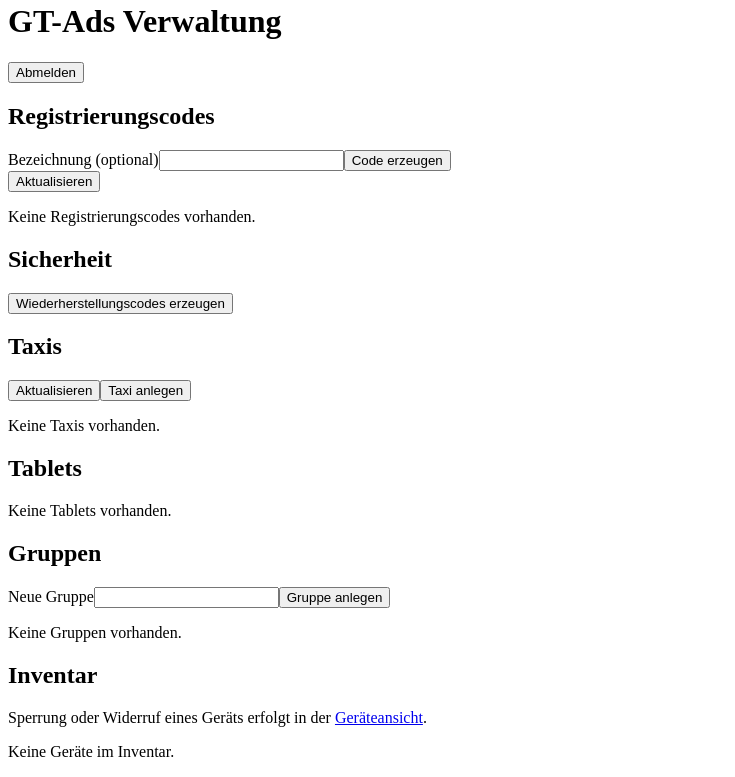
Test: CX-142 Inventarliste › unterscheidet Lade-, Leer- und Fehlerzustand und wiederholt die aktuelle Seite
Later steps or results of the test are not shown.
Check: the text "Keine Geräte im Inventar." is shown, box [8,743,174,760]
Click the 2nd button "Aktualisieren" at (54, 391), box [8,380,100,401]
(page scrolled)
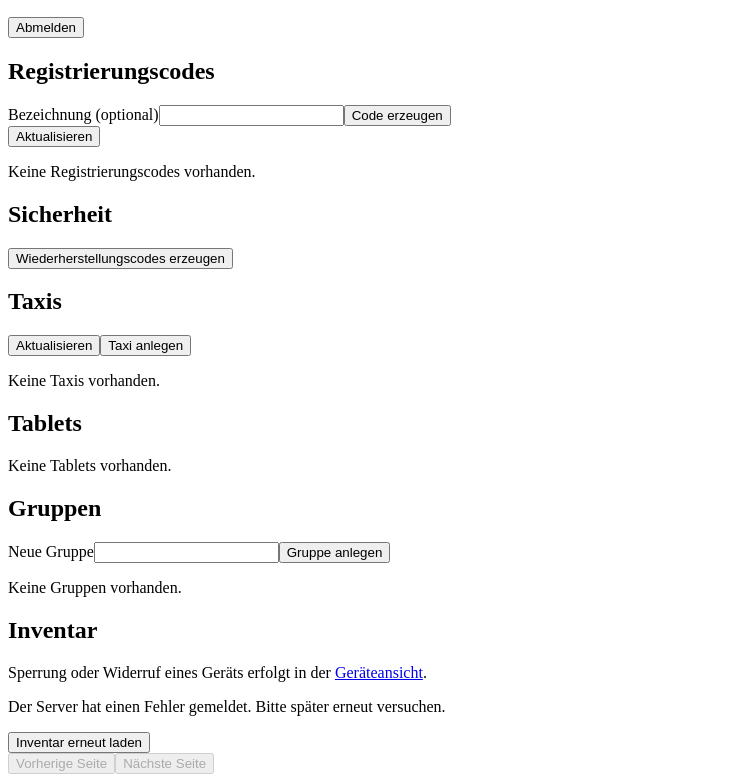
Check: the message shows "Server", box [8,698,446,715]
Check: the text "Keine Geräte im Inventar." is gone
Click the button "Inventar erneut laden" at (79, 742), box [8,732,150,753]
(page scrolled)
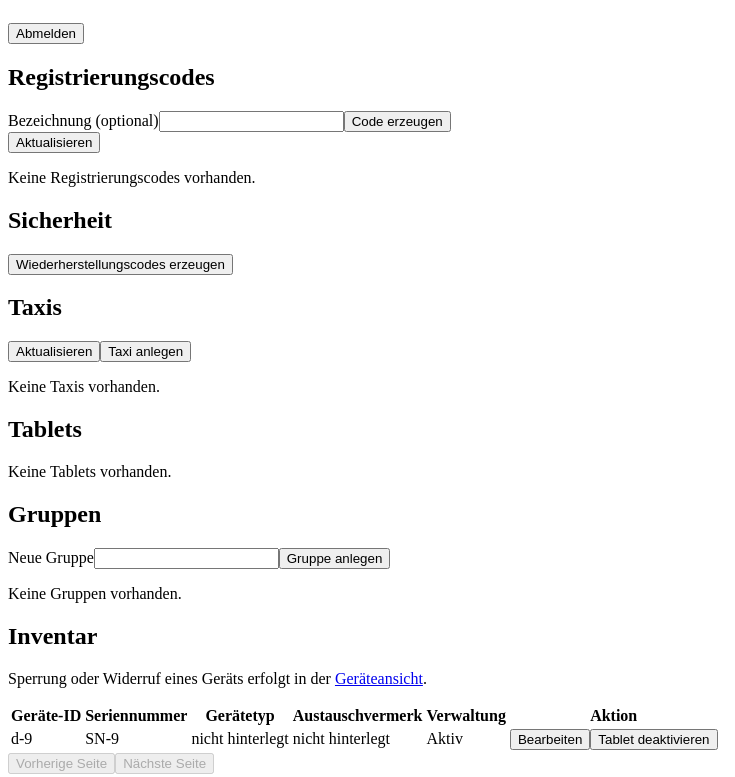
Check: the text "d-9" is shown, box [10,728,82,751]
Check: the message is gone
